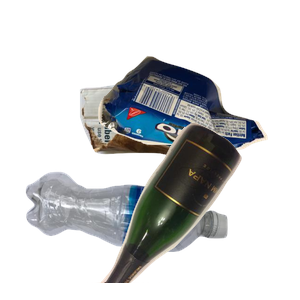cardboard: (77, 79, 251, 227)
glass: (87, 120, 300, 300)
plastic: (23, 169, 243, 300)
trash: (95, 53, 300, 195)
